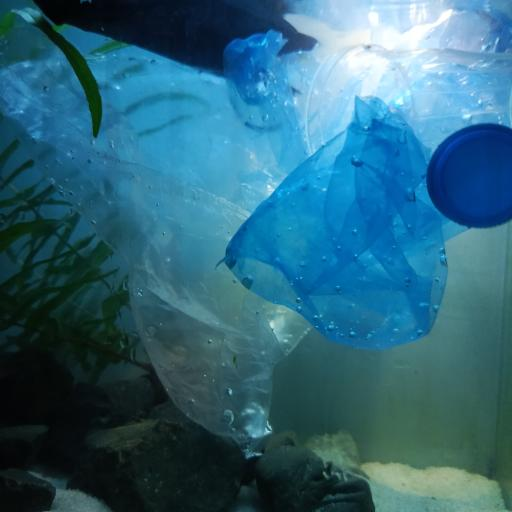bottle_cap: (428, 121, 512, 229)
mask: (38, 0, 320, 133)
plastic_bag: (0, 50, 384, 454), (221, 26, 512, 352)
plastic_cup: (308, 45, 512, 162)
